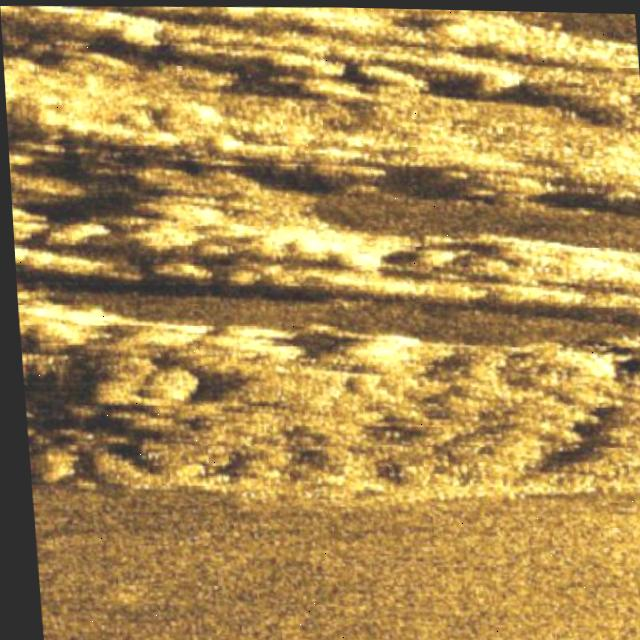bedrock group: (0, 0, 640, 521)
